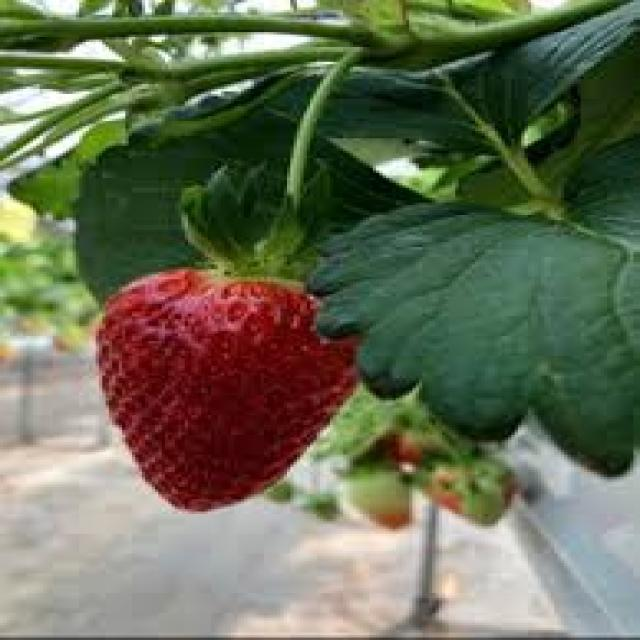straw-ripe: (96, 270, 361, 516)
